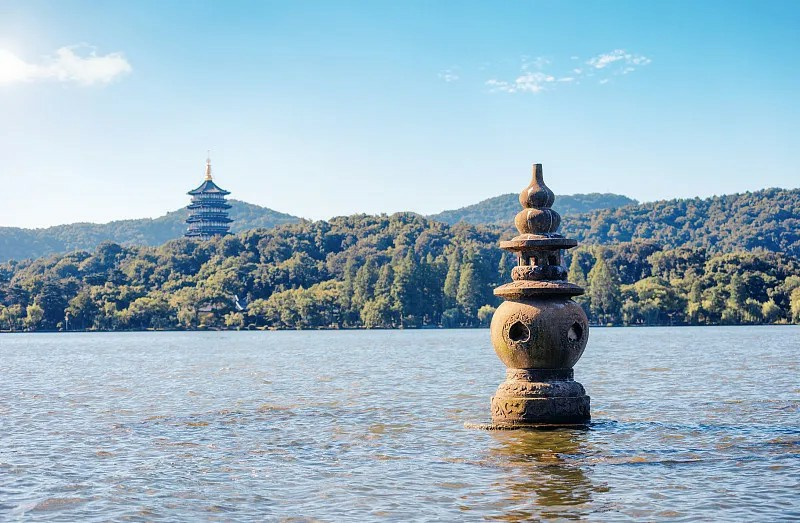Leifeng: (184, 149, 234, 242)
